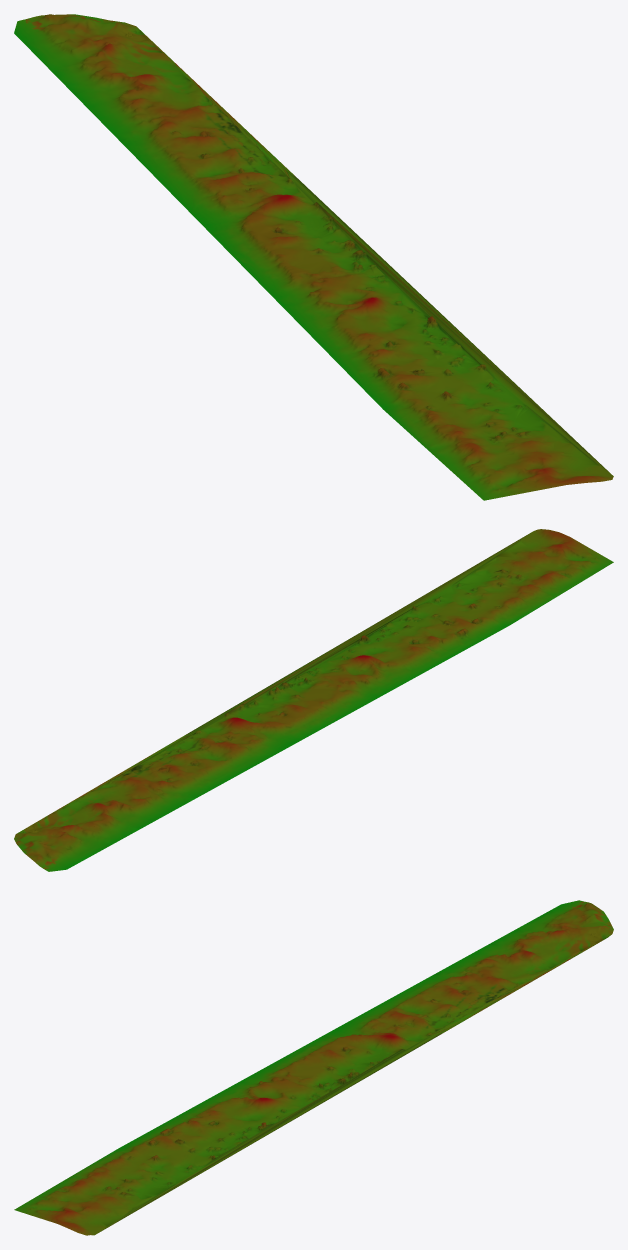
File: OmrOne2020.glb.gltf
3 renders of one model, top to bottom at view 1: azimuth 30°, elevation 25°; view 2: azimuth 150°, elevation 25°; view 3: azimuth 330°, elevation 25°, orthographic. The views are drawn at different scales.
Visible parts, largest first — view 1: OmrOne2020Lp; view 2: OmrOne2020Lp; view 3: OmrOne2020Lp.
Part boxes in pixels (x1,y1,x2,y2): OmrOne2020Lp: (14, 14, 613, 500); OmrOne2020Lp: (14, 529, 613, 871); OmrOne2020Lp: (14, 900, 613, 1235).
Size of the model in its own units: 187 by 10.01 by 908.
1 material, 1 textured.
